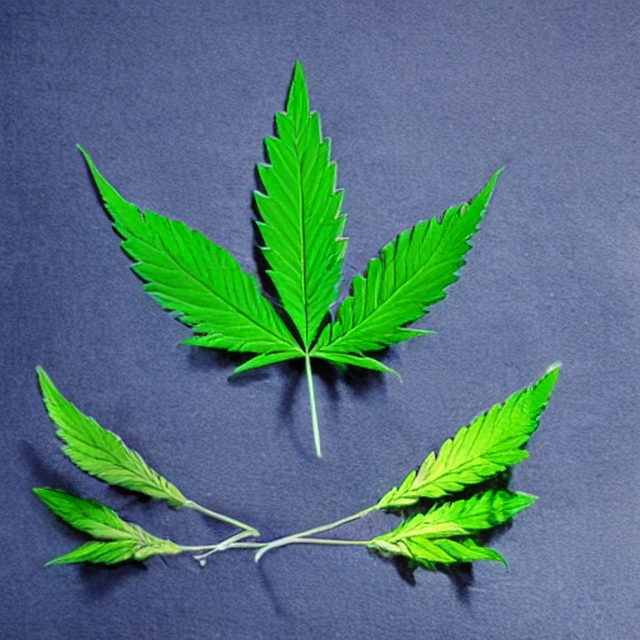Marijuana Leaf: (31, 56, 562, 583), (73, 56, 507, 457), (74, 141, 302, 365), (249, 57, 349, 352), (375, 360, 562, 511)
